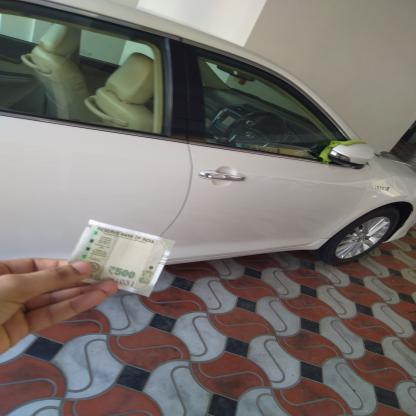New500Front: (65, 218, 169, 298)
